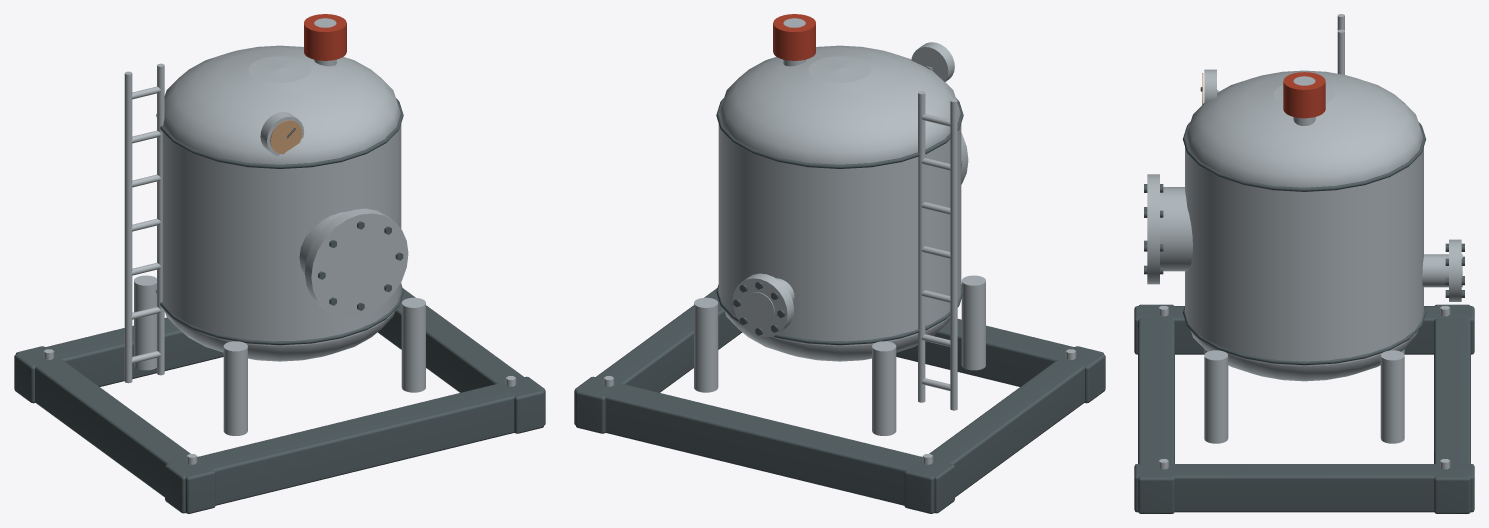
File: pressure_vessel.glb
3 views of the same model, side by side, from view 1: azimuth 30°, elevation 25°; view 2: azimuth 150°, elevation 25°; view 3: azimuth 270°, elevation 25° (orthographic).
Visible parts, largest first — view 1: pressure_vessel_SPOT_machined_steel, pressure_vessel_SPOT_cast_iron, pressure_vessel_SPOT_valve_red, pressure_vessel_SPOT_ceramic; view 2: pressure_vessel_SPOT_machined_steel, pressure_vessel_SPOT_cast_iron, pressure_vessel_SPOT_valve_red; view 3: pressure_vessel_SPOT_machined_steel, pressure_vessel_SPOT_cast_iron, pressure_vessel_SPOT_valve_red.
Boxes of the visible parts, <box> form: pressure_vessel_SPOT_machined_steel: <box>43,18,516,464</box>; pressure_vessel_SPOT_cast_iron: <box>14,98,545,513</box>; pressure_vessel_SPOT_valve_red: <box>304,14,346,60</box>; pressure_vessel_SPOT_ceramic: <box>270,120,302,154</box>; pressure_vessel_SPOT_machined_steel: <box>603,18,1076,464</box>; pressure_vessel_SPOT_cast_iron: <box>574,98,1105,513</box>; pressure_vessel_SPOT_valve_red: <box>773,14,815,60</box>; pressure_vessel_SPOT_machined_steel: <box>1147,14,1462,469</box>; pressure_vessel_SPOT_cast_iron: <box>1134,87,1474,513</box>; pressure_vessel_SPOT_valve_red: <box>1283,72,1325,118</box>.
Bounding box in the file's own units: 2.25 × 2.21 × 1.85.
